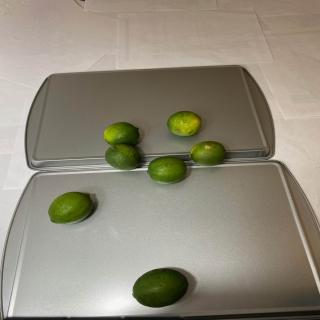Lemon: (132, 268, 189, 308), (48, 192, 93, 224), (147, 156, 187, 184), (189, 141, 227, 166), (104, 144, 140, 170), (167, 110, 202, 136), (104, 122, 140, 146)
